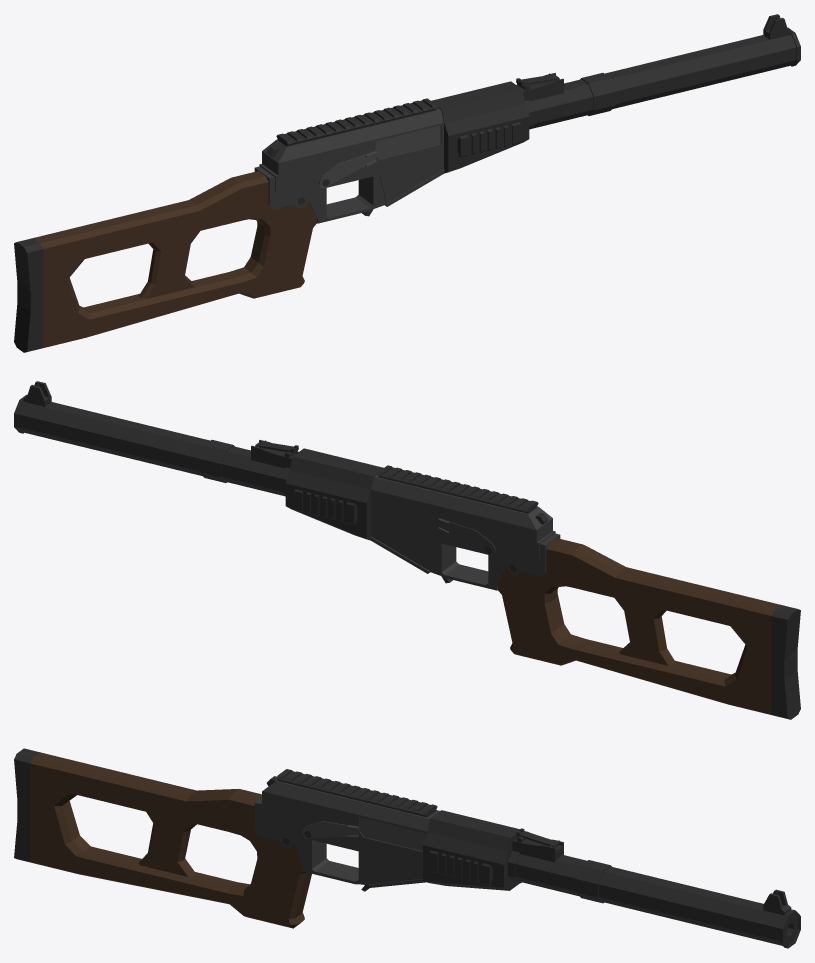
File: SniperRifle6_01.fbx
The picture shows the model from 3 angles, top to bottom: view 1: azimuth 30°, elevation 25°; view 2: azimuth 150°, elevation 25°; view 3: azimuth 330°, elevation 25°; orthographic projection.
Parts seen in each view (by area): view 1: SniperRifle6_01; view 2: SniperRifle6_01; view 3: SniperRifle6_01.
Part boxes in pixels (bbox=[...]): SniperRifle6_01: bbox=[14, 14, 800, 352]; SniperRifle6_01: bbox=[14, 381, 800, 719]; SniperRifle6_01: bbox=[14, 748, 800, 948].
Size of the model in its own units: 0.9508 by 0.1767 by 0.0662.
